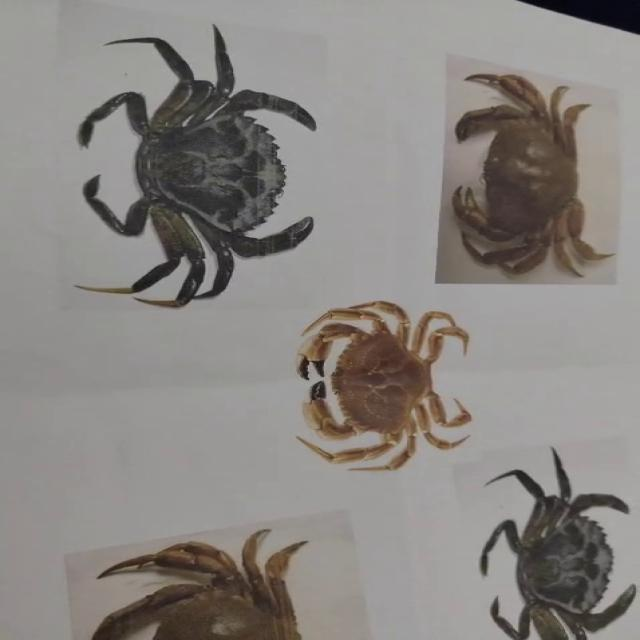egc: (79, 26, 315, 307), (481, 447, 635, 639)
